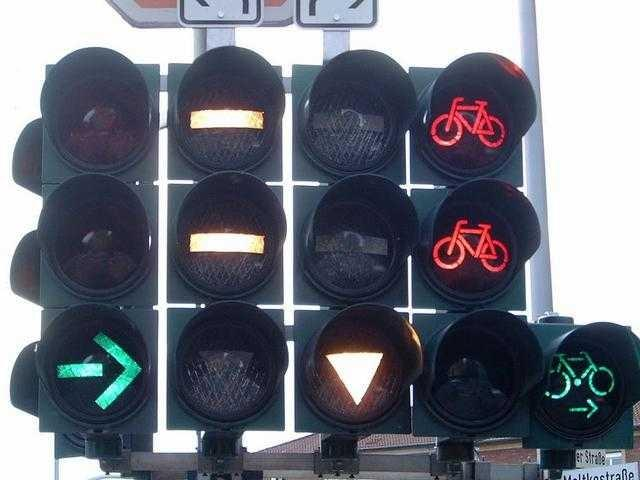green: (39, 304, 157, 428)
